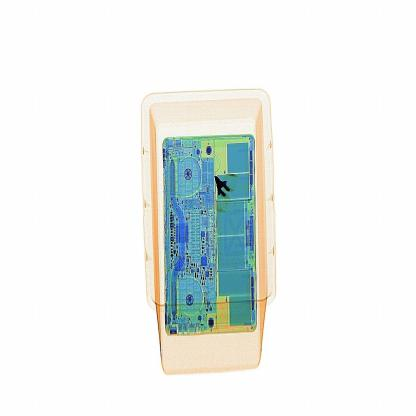gun: (205, 168, 250, 221)
